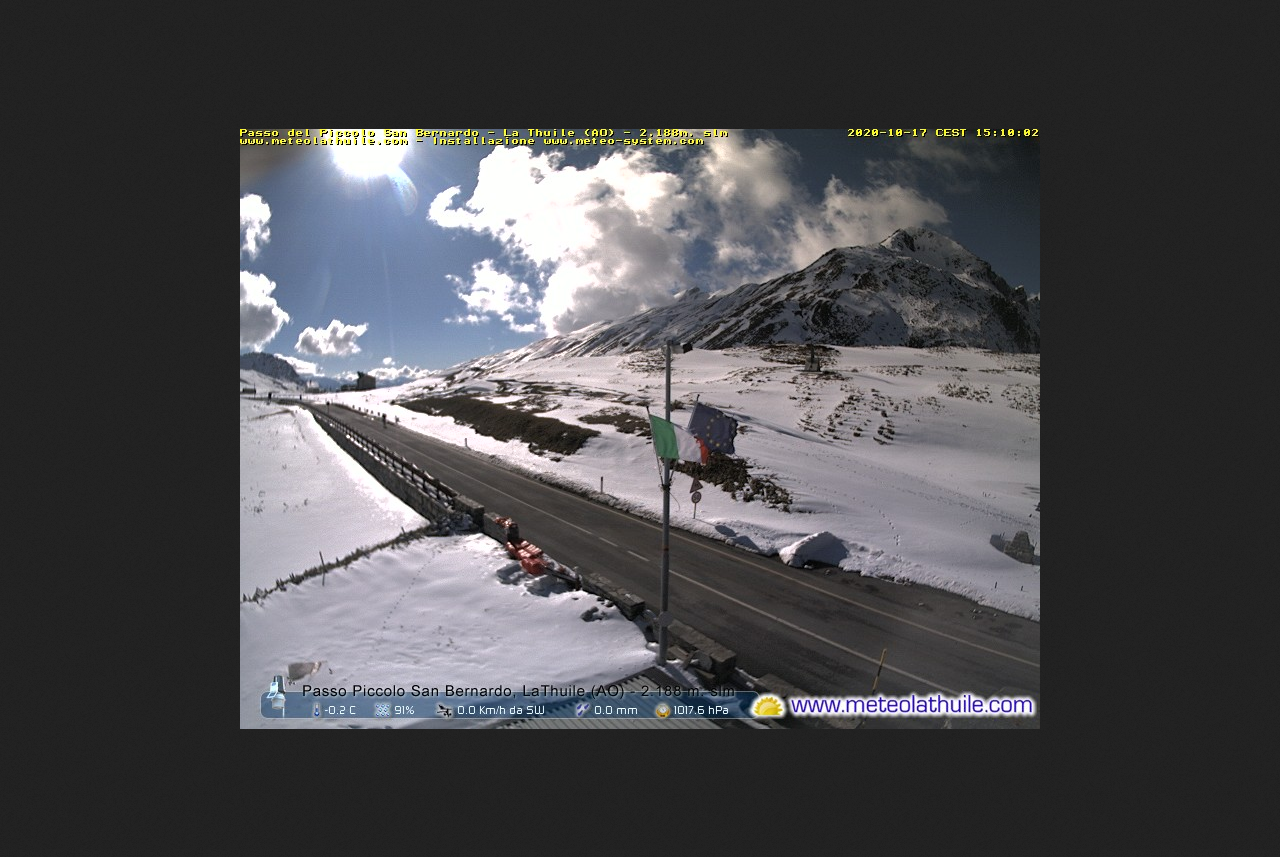yes: (648, 417, 716, 469), (692, 402, 739, 457)
